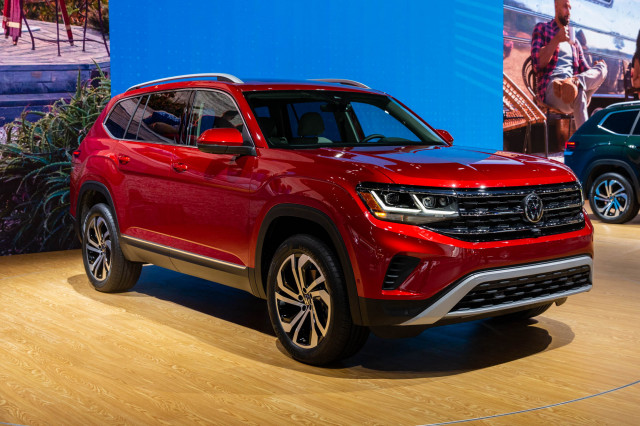car: (70, 73, 595, 366)
